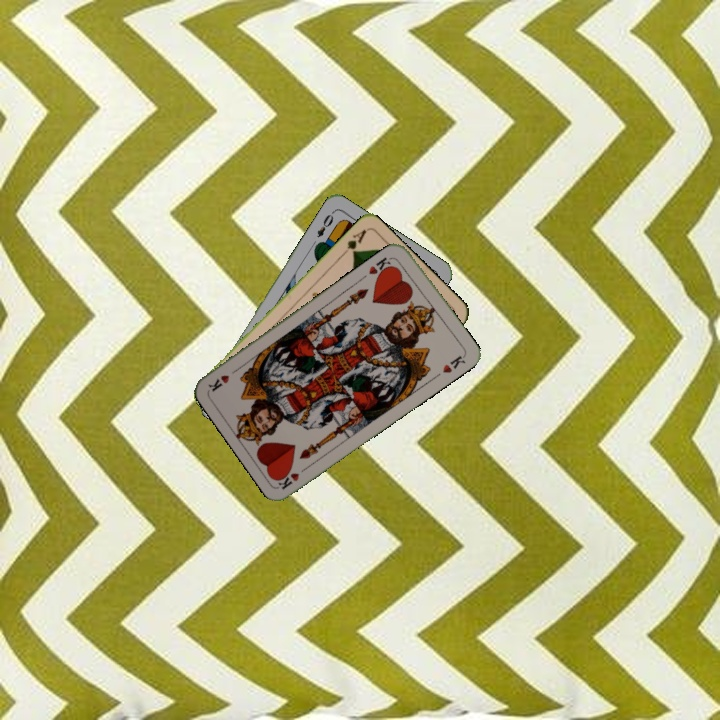EO: (313, 207, 337, 240)
GA: (337, 225, 369, 259)
HK: (273, 461, 312, 492), (364, 253, 396, 281)
